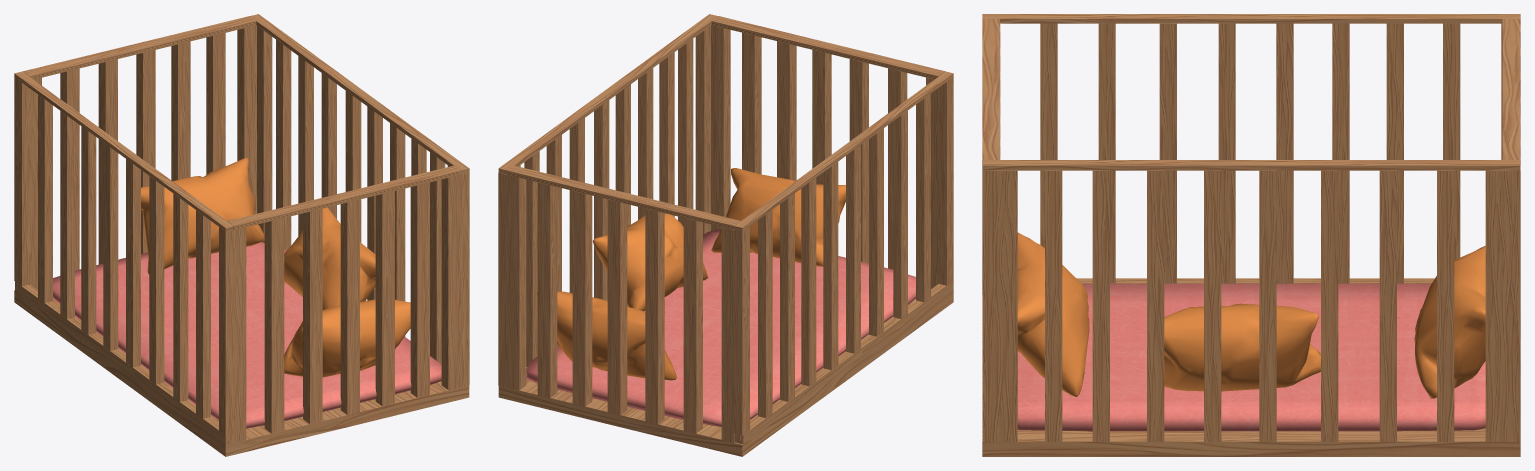
The model's file is parkV3.fbx.
3 renders of one model, left to right at view 1: azimuth 30°, elevation 25°; view 2: azimuth 150°, elevation 25°; view 3: azimuth 270°, elevation 25°, orthographic. The views are drawn at different scales.
Parts seen in each view (by area): view 1: Porte, BarriereFond, BarriereGauche, BarriereDroite, matelas.001, Sol, coussin_gauche, coussin_droit, coussin_central, Rail; view 2: Porte, BarriereFond, BarriereDroite, BarriereGauche, matelas.001, Sol, coussin_droit, coussin_gauche, coussin_central, Rail; view 3: BarriereFond, Porte, matelas.001, Sol, coussin_central, coussin_droit, coussin_gauche, BarriereDroite, BarriereGauche, Rail.
Boxes of the visible parts, x1,y1,x2,y2 form: Porte: (14,71,233,440); BarriereFond: (237,14,469,390); BarriereGauche: (227,165,460,442); BarriereDroite: (23,16,256,289); matelas.001: (53,235,441,428); Sol: (14,290,469,456); coussin_gauche: (141,158,264,274); coussin_droit: (284,299,410,377); coussin_central: (284,207,375,309); Rail: (15,281,233,444); Porte: (734,71,953,440); BarriereFond: (498,14,730,390); BarriereDroite: (507,165,740,442); BarriereGauche: (711,16,944,288); matelas.001: (526,229,915,427); Sol: (498,290,953,456); coussin_droit: (711,168,845,266); coussin_gauche: (537,291,676,380); coussin_central: (592,213,708,311); Rail: (735,281,953,444); BarriereFond: (983,158,1520,441); Porte: (982,14,1520,283); matelas.001: (1017,283,1485,431); Sol: (982,295,1520,456); coussin_central: (1164,303,1320,391); coussin_droit: (1017,232,1089,396); coussin_gauche: (1414,245,1485,398); BarriereDroite: (1502,19,1520,164); BarriereGauche: (982,19,1000,165); Rail: (982,278,1434,295).
Size of the model in its own units: 406 by 609 by 364.
Materials: 3 (2 with a texture image).
